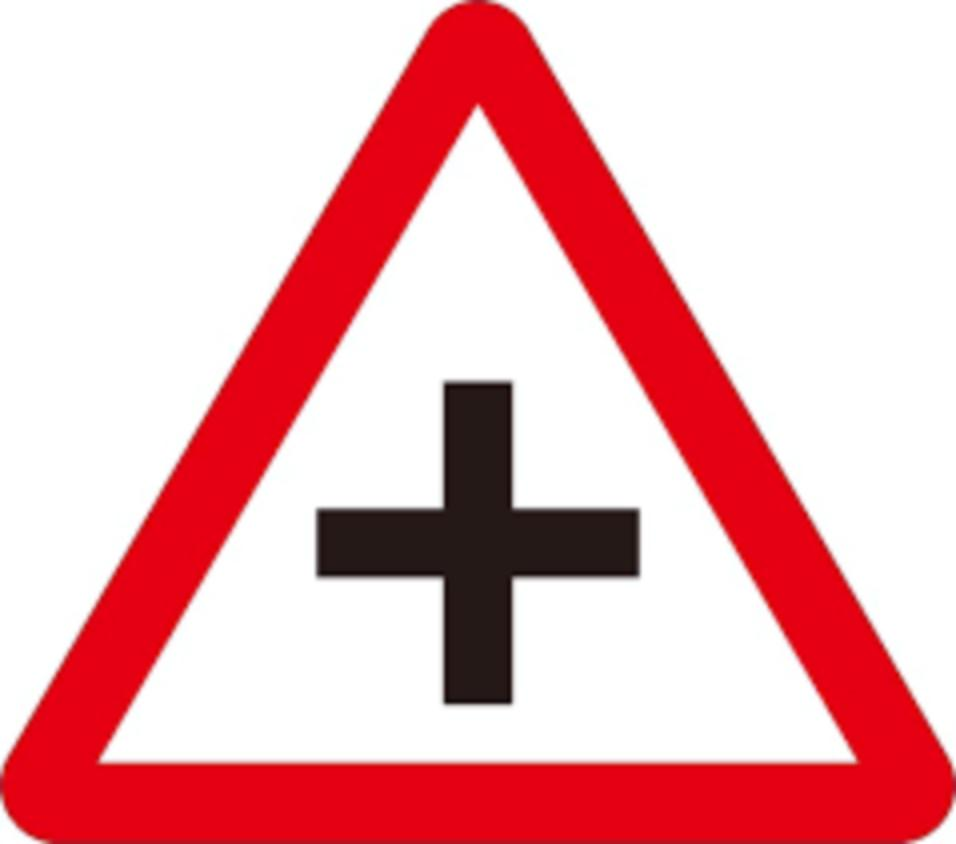fork_road: (6, 0, 955, 842)
